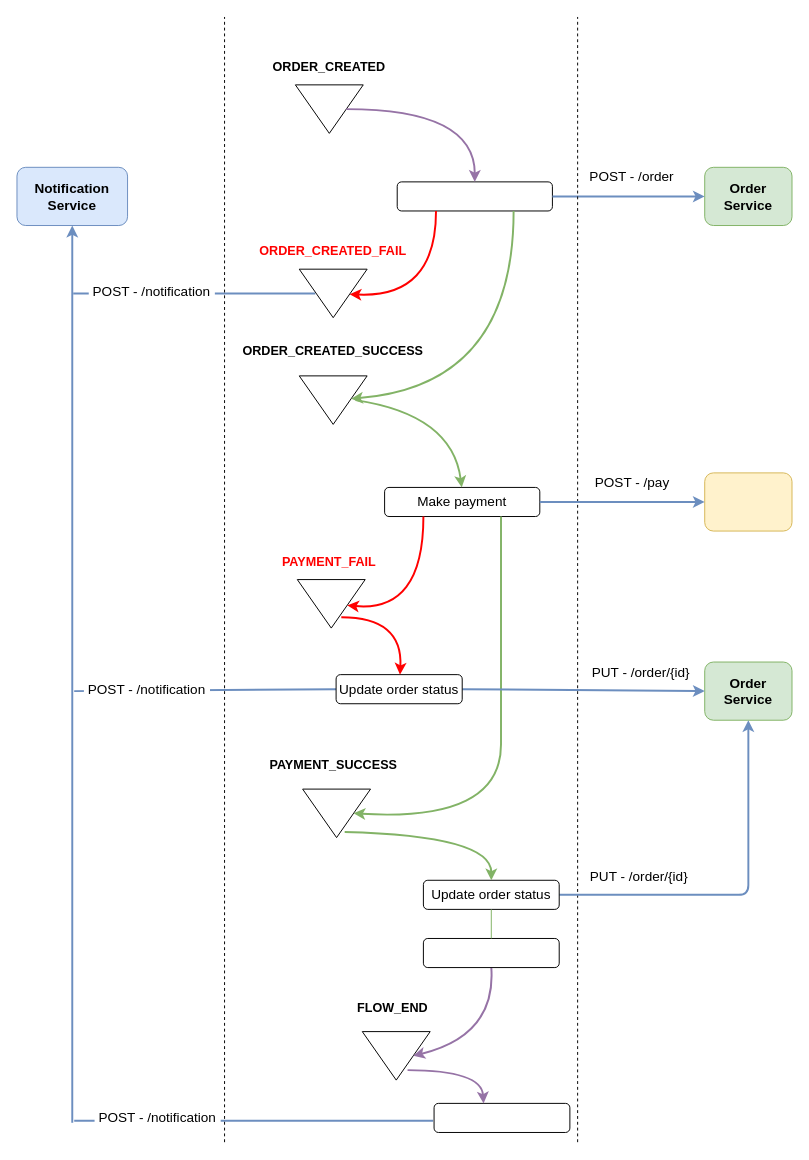
Image size: 809x1160. Some labels were removed from this diagram. The shapes that lost their labels are listed below. From the top down, each one's centre as x and y in pixels, then its label:
At point (474, 196): "Create Order".
At point (748, 501): "Payment Service".
At point (490, 953): "Create voucher".
At point (501, 1117): "Send Ticket".
